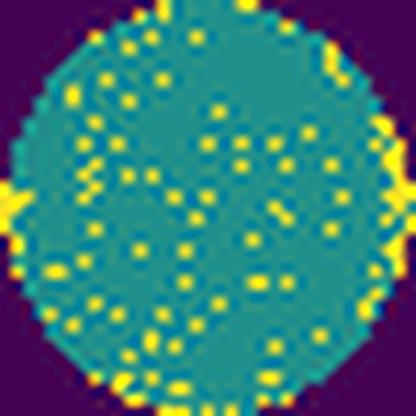Edge-Loc: (371, 108, 415, 235), (0, 177, 40, 258), (384, 210, 415, 284)
